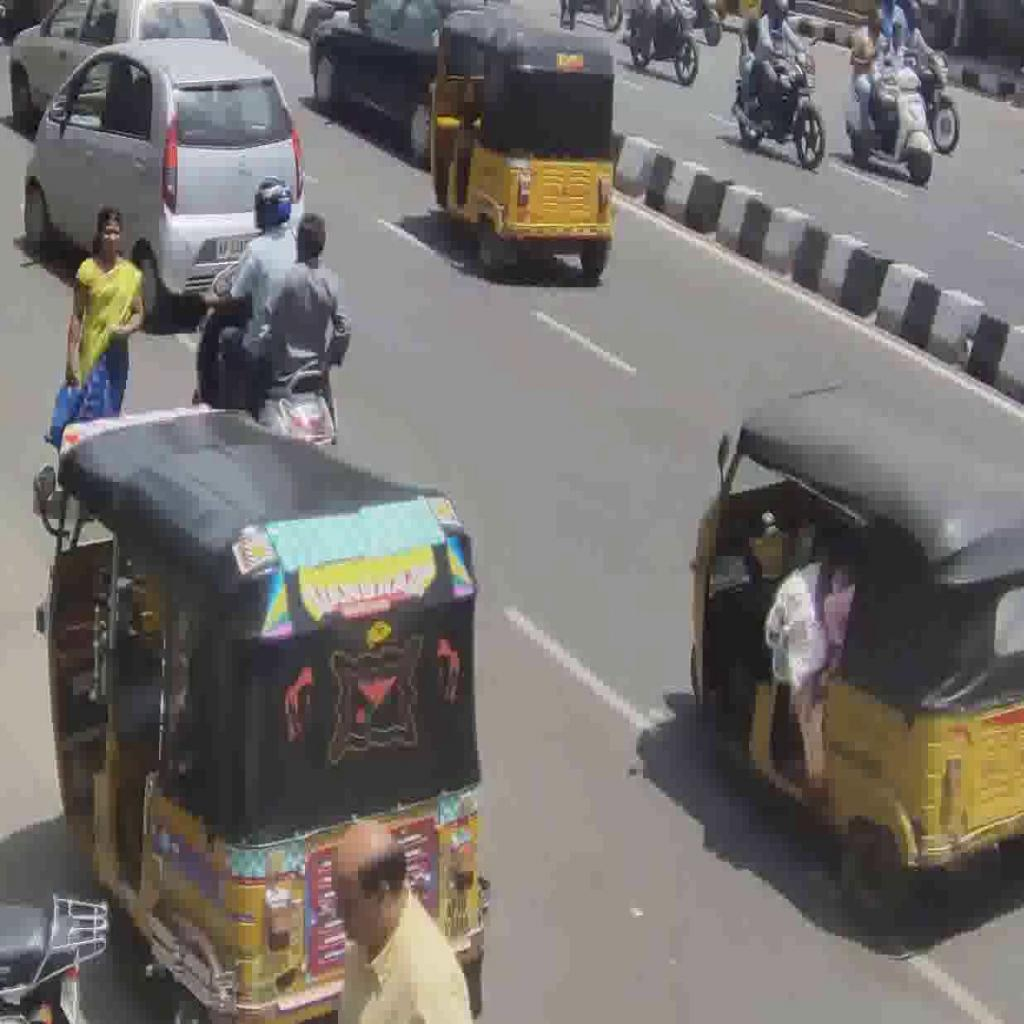helmet: (192, 255, 335, 451)
